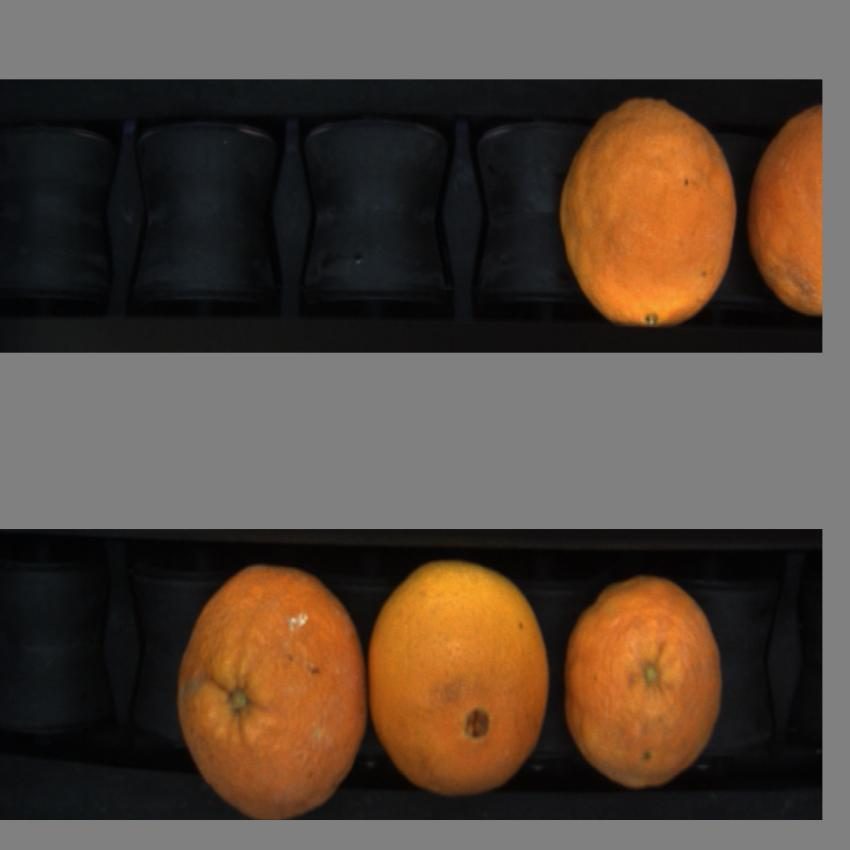Buen estado: (367, 554, 552, 796)
Mal estado: (172, 554, 364, 815), (554, 89, 740, 329), (563, 568, 726, 792), (747, 101, 824, 320)
